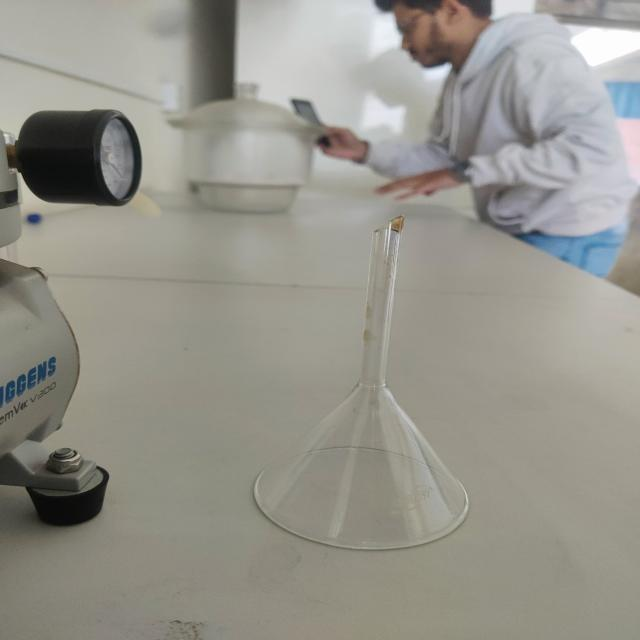Funnel: (230, 202, 516, 569)
